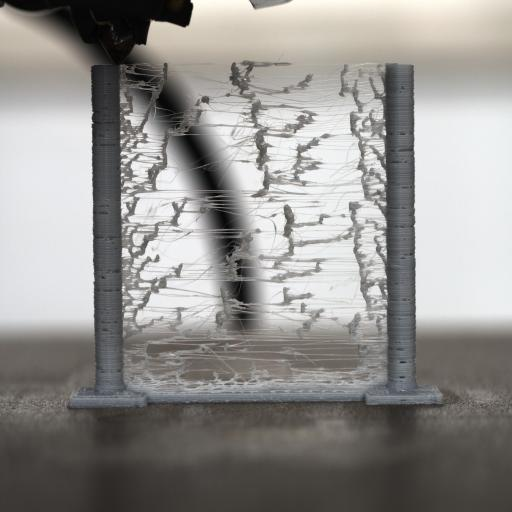stringing: (128, 58, 374, 389)
